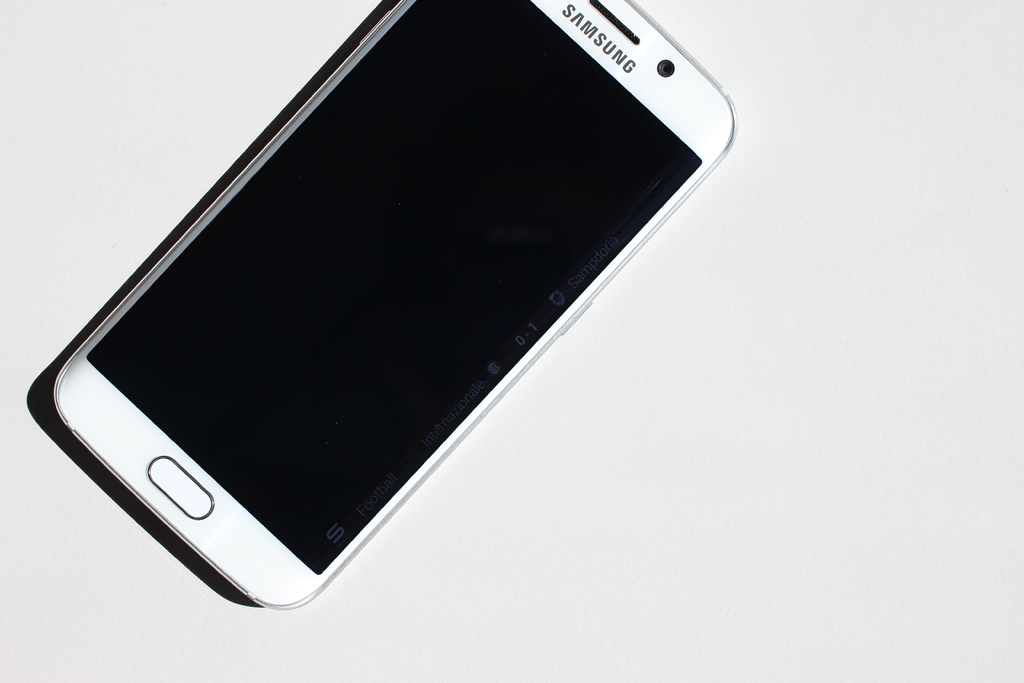Mobile-phone: (50, 0, 740, 614)
